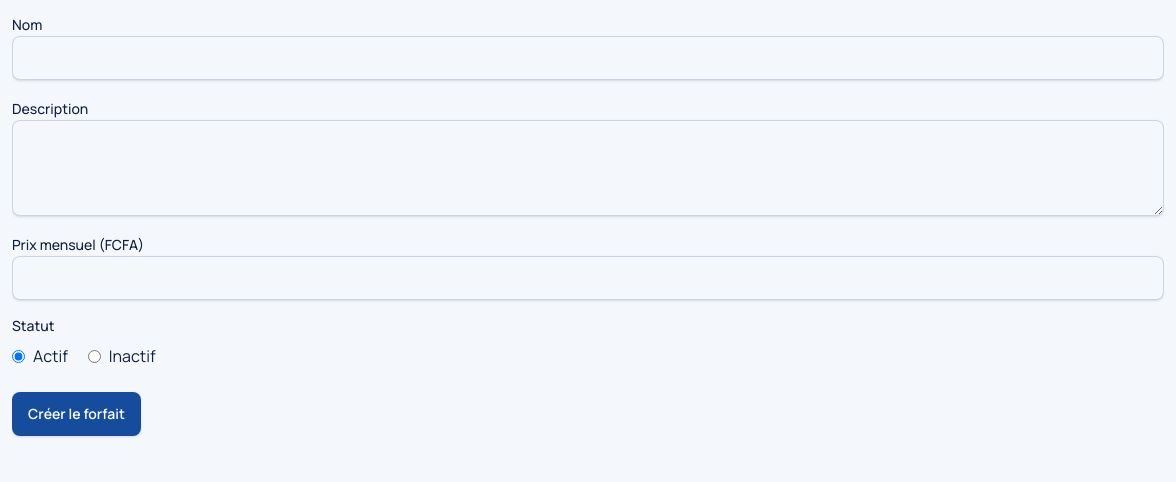
Test: PackageForm › masque une erreur obsolète dès que le champ est corrigé
Click the button "Créer le forfait". click: (76, 414)
box: [12,392,141,436]
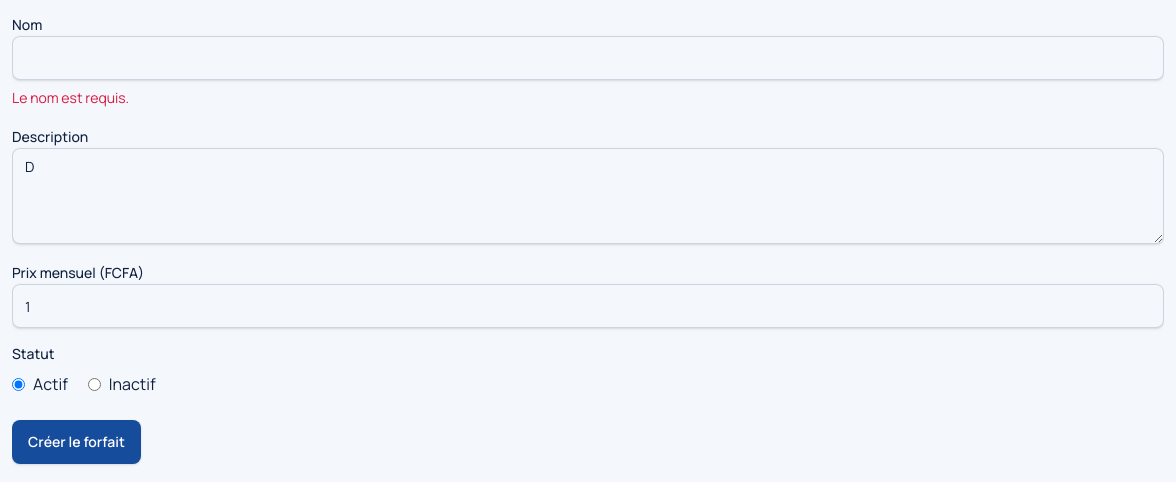
Result: the text "Le nom est requis." is shown at [12,88,129,107]
Type "Corrigé" into the field labelled "Nom". click: (588, 58)
box: [12,36,1164,80]
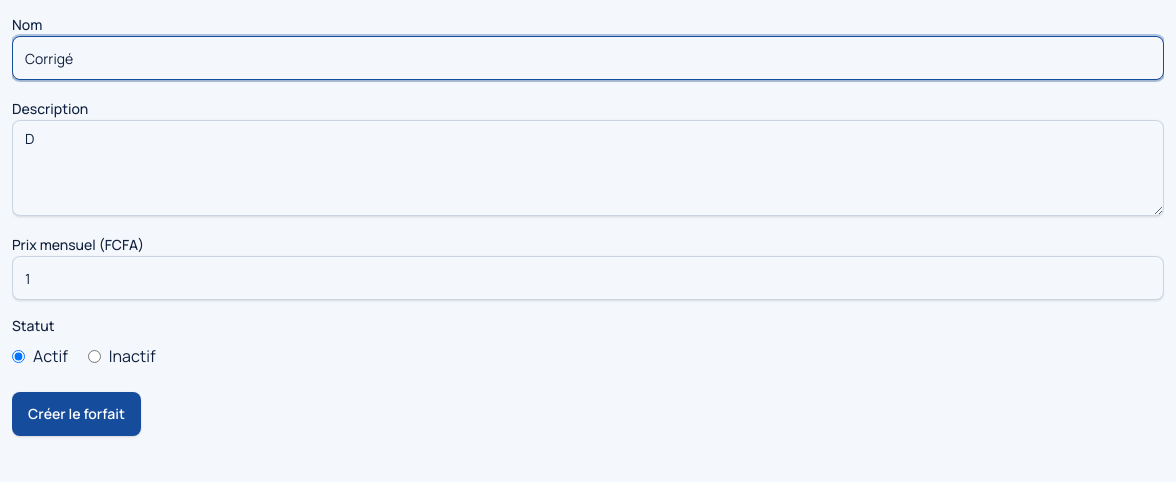
Result: the text "Le nom est requis." is gone
